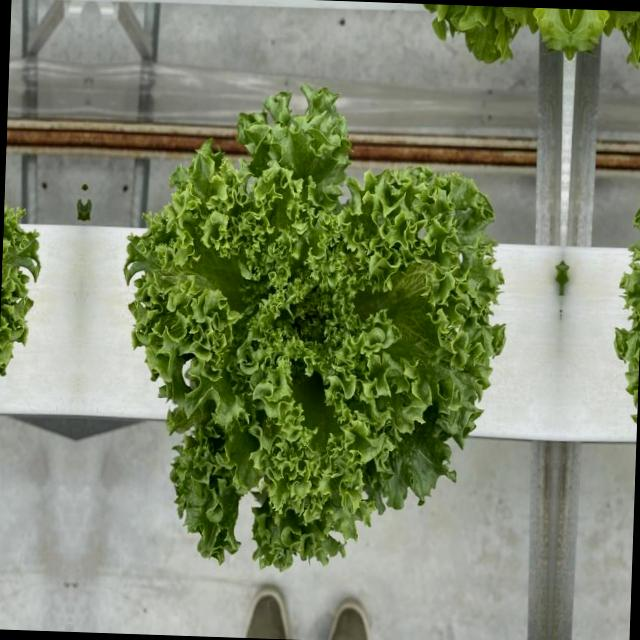healthy: (112, 76, 514, 578), (0, 71, 48, 562), (606, 92, 640, 583), (421, 4, 572, 66), (569, 8, 640, 69)
